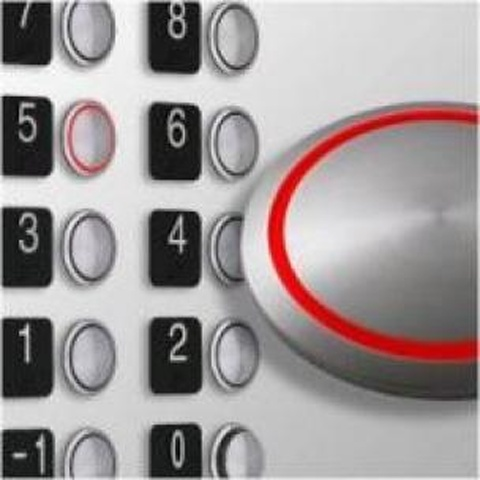-1: (1, 425, 57, 480)
0: (146, 421, 203, 480)
1: (1, 314, 56, 401)
2: (144, 313, 204, 398)
3: (1, 204, 54, 290)
4: (144, 206, 204, 291)
5: (1, 93, 54, 179)
6: (144, 97, 203, 185)
7: (1, 1, 54, 68)
8: (144, 1, 203, 78)
empty: (58, 94, 118, 180), (57, 207, 118, 289), (204, 313, 263, 397), (59, 315, 118, 399), (204, 103, 261, 185), (204, 1, 262, 79), (57, 1, 118, 69), (58, 424, 123, 480), (207, 421, 265, 480)
